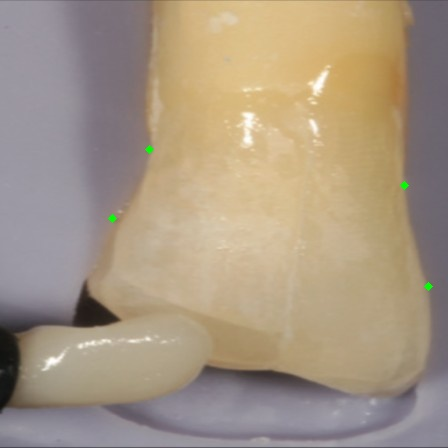coin_1: (149, 149, 169, 169)
coin_2: (112, 218, 132, 238)
coin_3: (404, 185, 424, 205)
coin_4: (428, 286, 448, 306)
